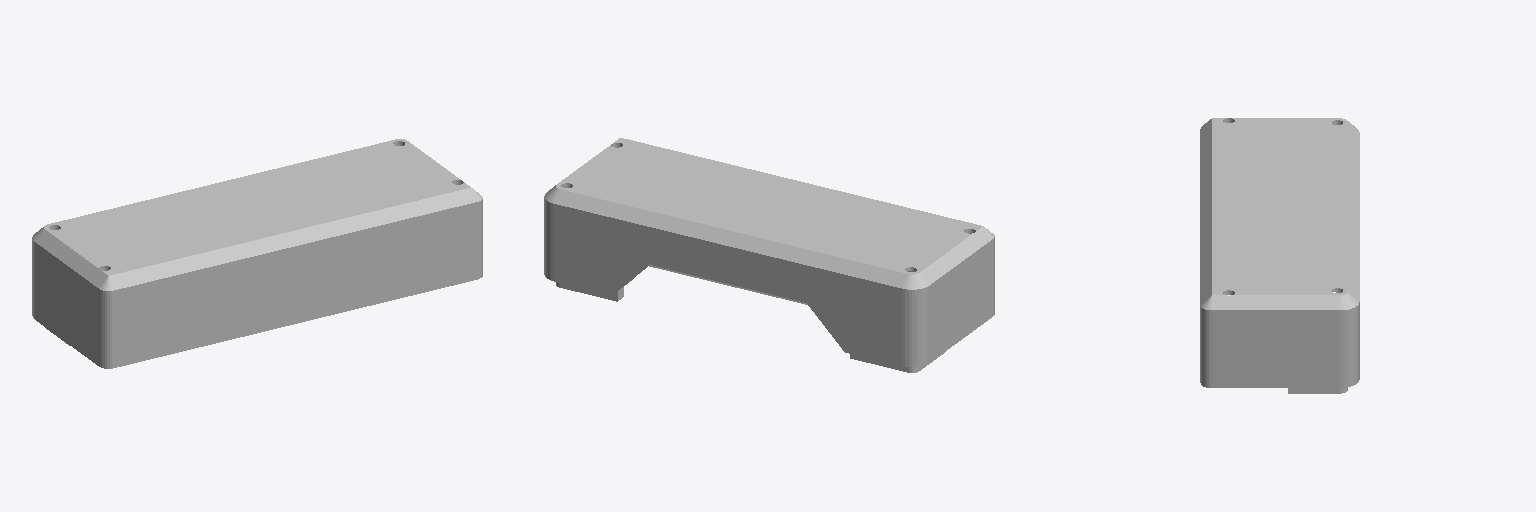
Rendered from Cover.obj.
3 views of the same model, side by side, from view 1: azimuth 30°, elevation 25°; view 2: azimuth 150°, elevation 25°; view 3: azimuth 270°, elevation 25° (orthographic).
Parts seen in each view (by area): view 1: Cover; view 2: Cover; view 3: Cover.
Boxes of the visible parts, box(x1,y1,x2,y2) form: Cover: box(32, 139, 482, 368); Cover: box(544, 138, 994, 372); Cover: box(1200, 118, 1359, 393).
Bounding box in the file's own units: 154 × 38 × 55.6.